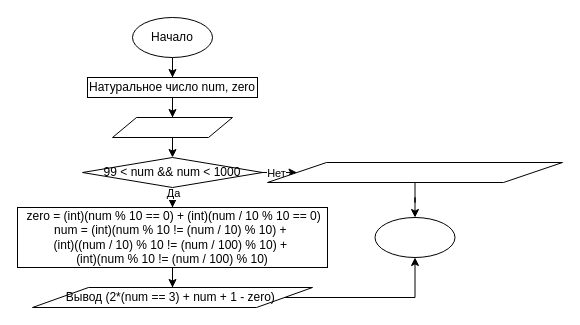
Some shapes in this 580 by 325 pixel diagram are drawn without their labels. The shapes that lost their labels are listed below. From the top down, each one's centre as x and y in pixels, then its label:
the point at 172,127: Ввод num, zero
the point at 414,172: Вывод "Enter number from 100 to 999!!!"
the point at 414,237: Конец
